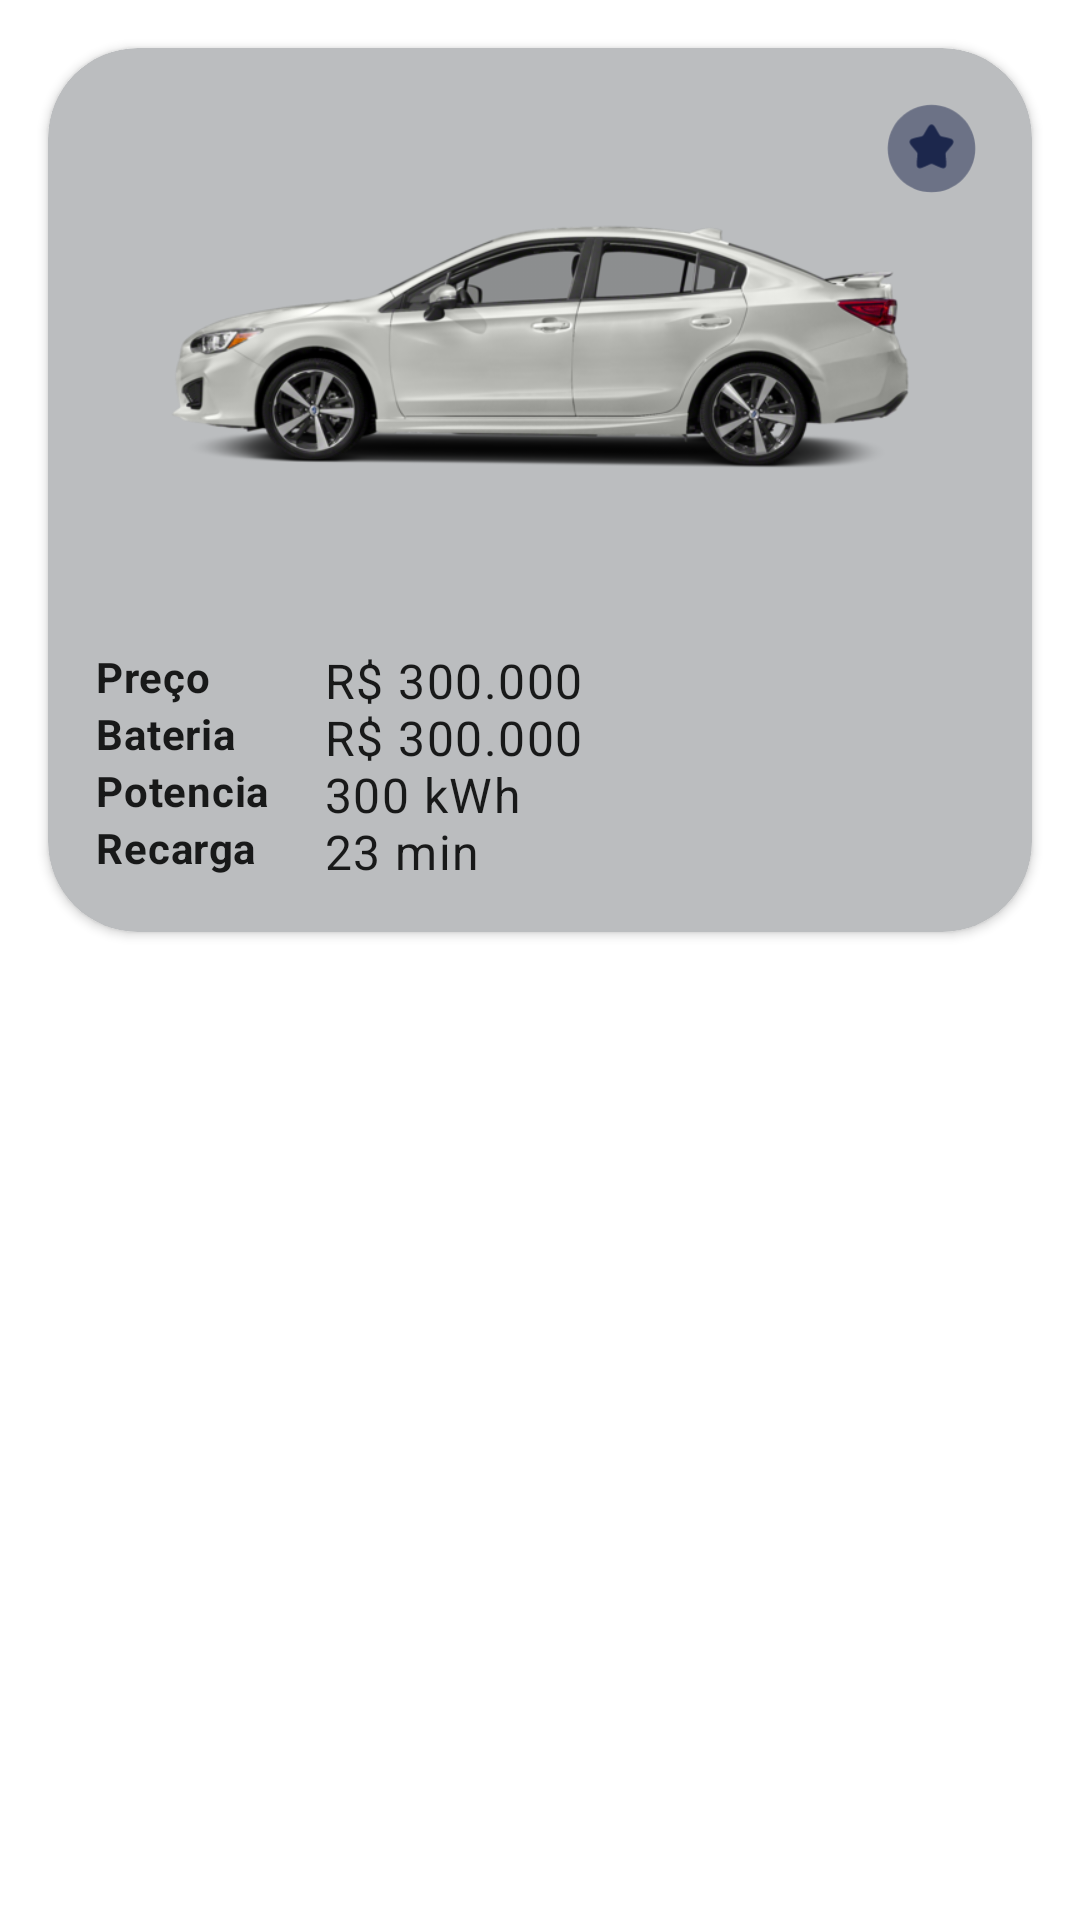

Locate icon controls on the screen. Image size 1080px x 1920px, boxes as [x1, y1, x2, y2].
estrela inativa: [888, 105, 975, 192]
